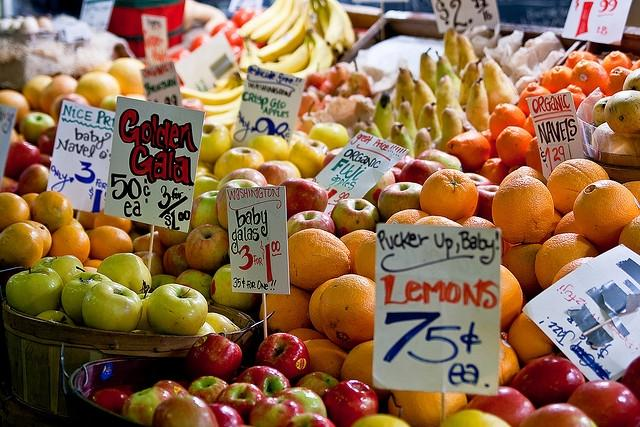apple: (510, 356, 586, 409), (566, 380, 640, 427), (146, 284, 208, 336), (81, 281, 142, 333), (255, 333, 312, 388), (185, 333, 242, 386), (6, 267, 64, 317), (464, 386, 536, 426), (61, 270, 113, 324), (324, 379, 378, 427), (210, 263, 262, 312), (96, 253, 152, 294), (216, 179, 260, 231), (278, 178, 328, 222), (151, 395, 218, 427), (214, 382, 266, 423), (185, 224, 230, 270), (331, 198, 378, 239), (518, 402, 596, 426), (236, 366, 292, 398), (378, 182, 422, 222), (32, 254, 85, 287), (272, 387, 328, 418), (213, 146, 264, 180), (288, 137, 329, 178), (286, 211, 336, 240), (294, 372, 339, 404), (198, 121, 232, 162), (190, 190, 223, 230), (87, 388, 134, 416), (439, 409, 512, 427), (398, 159, 446, 186), (186, 375, 229, 404), (174, 269, 214, 300), (308, 122, 348, 152), (20, 112, 55, 146), (257, 160, 302, 186), (216, 168, 268, 190), (247, 135, 289, 162), (18, 162, 50, 197), (417, 149, 463, 172), (133, 231, 168, 260), (163, 242, 191, 278), (158, 221, 194, 248), (476, 185, 499, 226), (207, 403, 244, 427), (136, 280, 152, 330), (206, 312, 240, 334), (284, 412, 336, 426), (352, 415, 410, 427), (152, 380, 191, 397), (36, 310, 76, 326), (148, 275, 176, 293), (194, 322, 216, 336), (130, 330, 158, 336)
banana: (258, 4, 310, 58), (290, 24, 334, 78), (254, 36, 310, 74), (250, 0, 293, 44), (239, 0, 283, 37), (317, 0, 344, 57), (267, 0, 300, 45), (328, 0, 356, 52), (180, 84, 243, 104), (203, 90, 243, 117), (324, 1, 342, 48), (204, 107, 239, 130), (239, 36, 252, 72), (212, 76, 230, 88), (316, 22, 324, 38)
orange: (573, 180, 640, 250), (319, 274, 377, 349), (492, 174, 554, 244), (288, 228, 352, 291), (535, 233, 600, 290), (343, 340, 391, 416), (547, 158, 609, 215), (419, 169, 478, 221), (389, 390, 468, 426), (259, 285, 313, 336), (508, 312, 554, 362), (501, 243, 544, 296), (303, 339, 350, 382), (308, 278, 338, 339), (340, 229, 376, 275), (500, 262, 523, 332), (552, 257, 594, 285), (500, 166, 548, 189), (355, 233, 377, 282), (498, 339, 520, 386), (538, 208, 563, 246), (618, 215, 640, 256), (554, 211, 586, 238), (384, 209, 430, 224), (412, 216, 464, 228), (286, 328, 328, 342), (455, 216, 498, 228), (622, 181, 640, 204)
pear: (478, 57, 519, 115), (437, 74, 464, 134), (432, 106, 465, 152), (434, 51, 462, 99), (466, 77, 490, 132), (412, 78, 436, 131), (372, 92, 394, 140), (458, 60, 481, 105), (395, 95, 417, 140), (418, 102, 442, 141), (390, 121, 415, 157), (396, 68, 415, 112), (419, 48, 436, 94), (444, 28, 460, 76), (413, 126, 432, 159), (364, 119, 384, 138), (352, 117, 367, 137)
